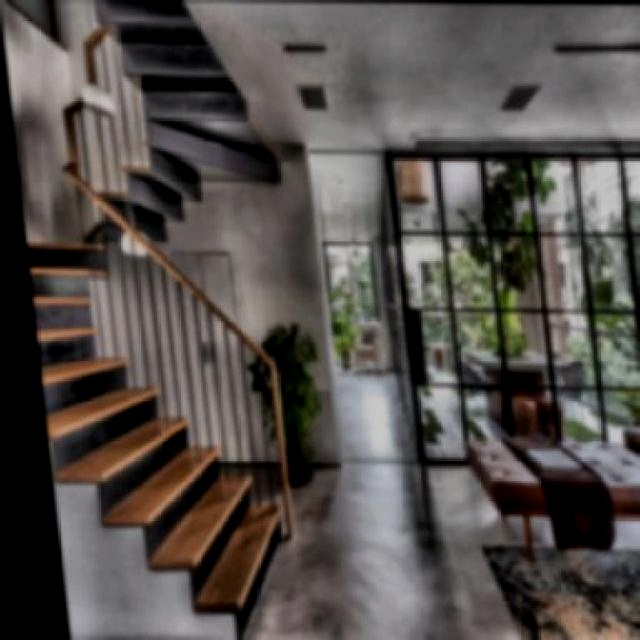stair: (20, 237, 295, 638)
